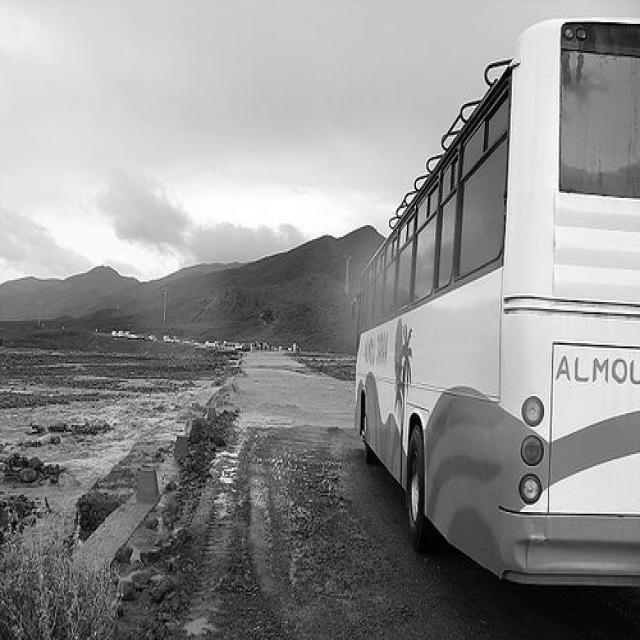bus: (353, 17, 639, 596)
